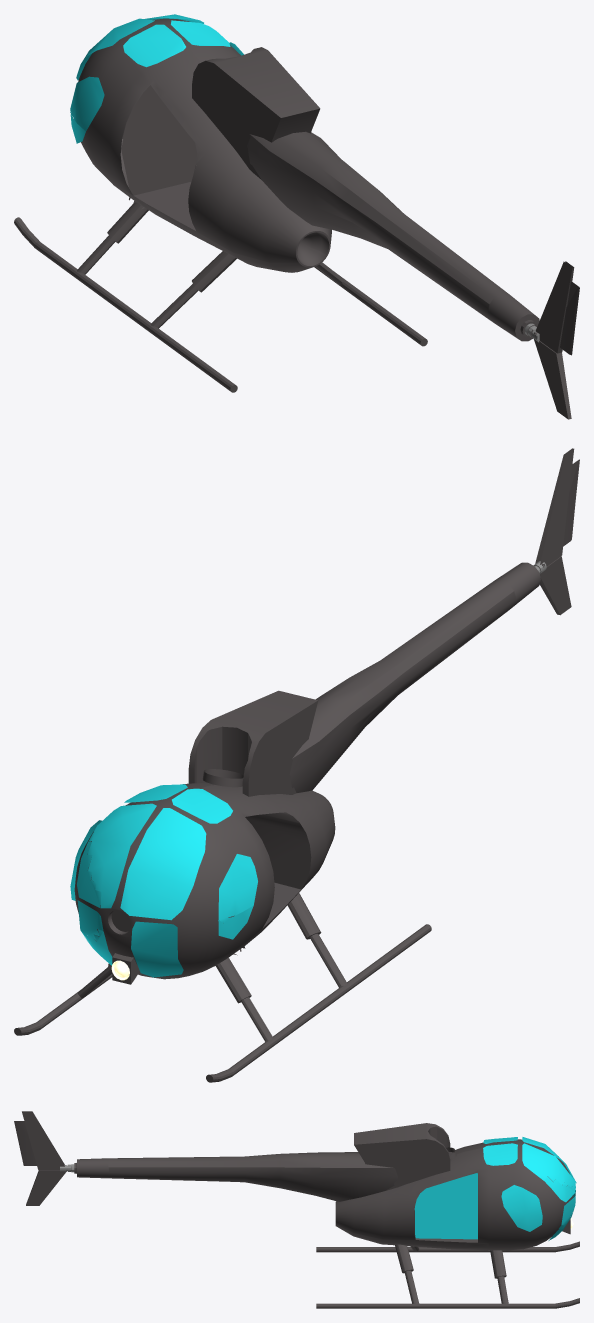
File: heli.glb
3 views of the same model, one above another, from view 1: azimuth 30°, elevation 25°; view 2: azimuth 150°, elevation 25°; view 3: azimuth 270°, elevation 25° (orthographic). The views are drawn at different scales.
Visible parts, largest first — view 1: Sphere_6; view 2: Sphere_6; view 3: Sphere_6.
Boxes of the visible parts, box(x1,y1,x2,y2) form: Sphere_6: box(14, 14, 579, 419); Sphere_6: box(14, 448, 579, 1082); Sphere_6: box(14, 1111, 579, 1308).
Bounding box in the file's own units: 2.49 × 3.35 × 10.13.
